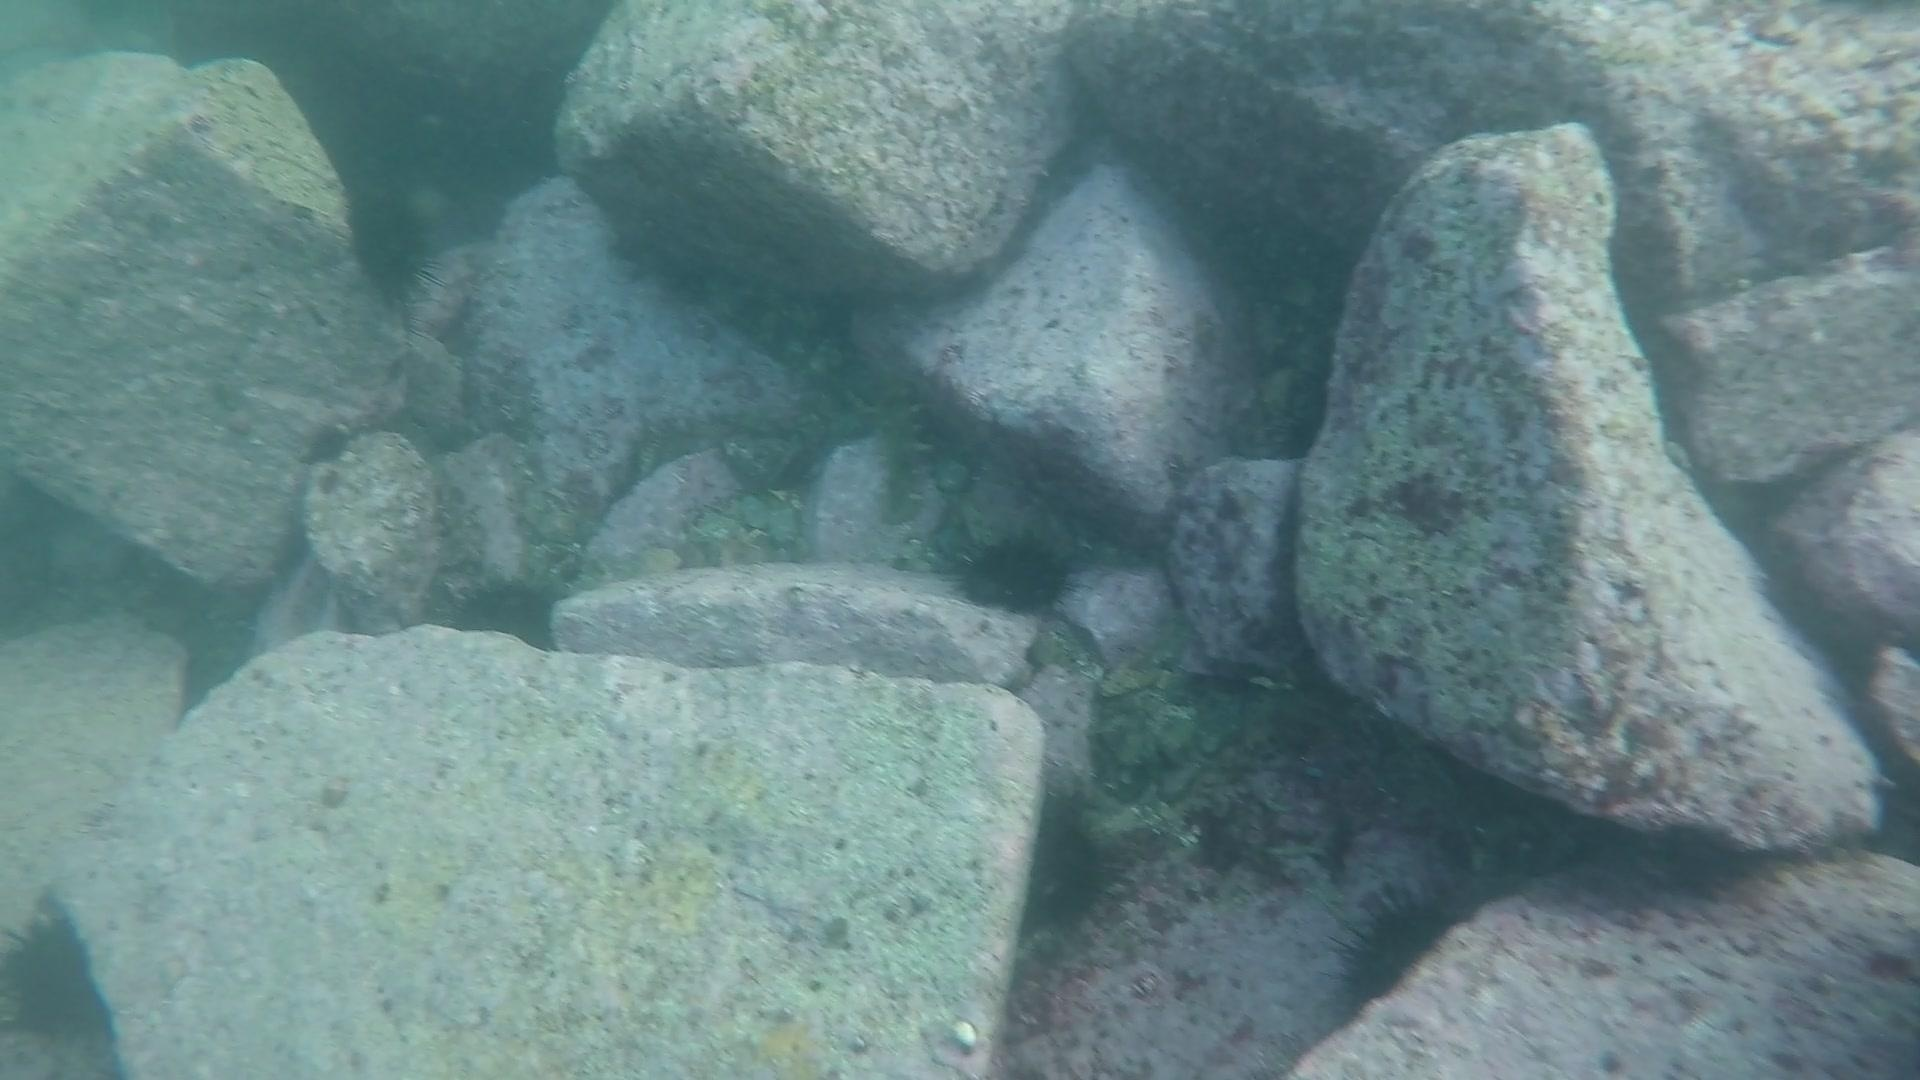echinus: (1321, 884, 1472, 1029), (1, 899, 109, 1048), (1021, 798, 1124, 938), (945, 525, 1081, 622), (439, 566, 570, 658), (342, 186, 442, 305)
holothurian: (860, 377, 944, 533)
